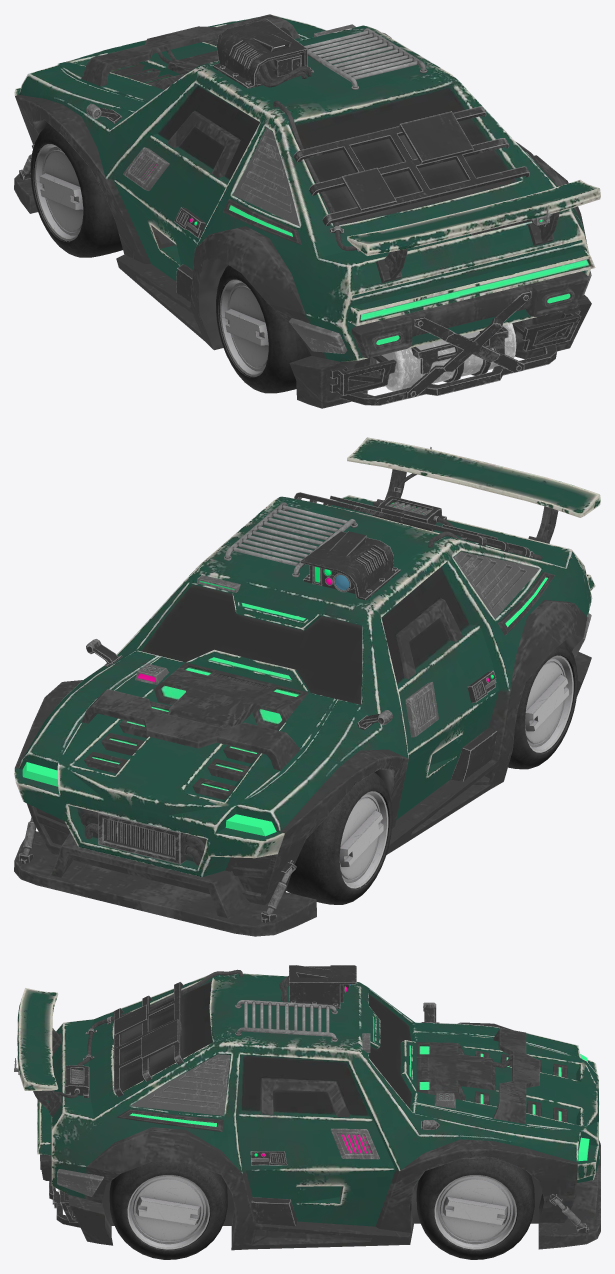
File: neon-racer.glb
The picture shows the model from 3 angles, top to bottom: view 1: azimuth 30°, elevation 25°; view 2: azimuth 150°, elevation 25°; view 3: azimuth 270°, elevation 25°; orthographic projection. The views are drawn at different scales.
Visible parts, largest first — view 1: body, wheel-front-left, wheel-rear-left; view 2: body, wheel-front-left, wheel-rear-left; view 3: body, wheel-front-right, wheel-rear-right.
Boxes of the visible parts, x1=… form: body: x1=14, y1=14, x2=600, y2=408; wheel-front-left: x1=30, y1=124, x2=122, y2=257; wheel-rear-left: x1=216, y1=265, x2=311, y2=393; body: x1=14, y1=437, x2=600, y2=936; wheel-front-left: x1=286, y1=772, x2=392, y2=904; wheel-rear-left: x1=508, y1=641, x2=577, y2=769; body: x1=14, y1=965, x2=600, y2=1250; wheel-front-right: x1=416, y1=1158, x2=534, y2=1259; wheel-rear-right: x1=109, y1=1161, x2=227, y2=1259.
Size of the model in its own units: 2.35 by 1.77 by 4.3.
Materials: 3 (3 with a texture image).
